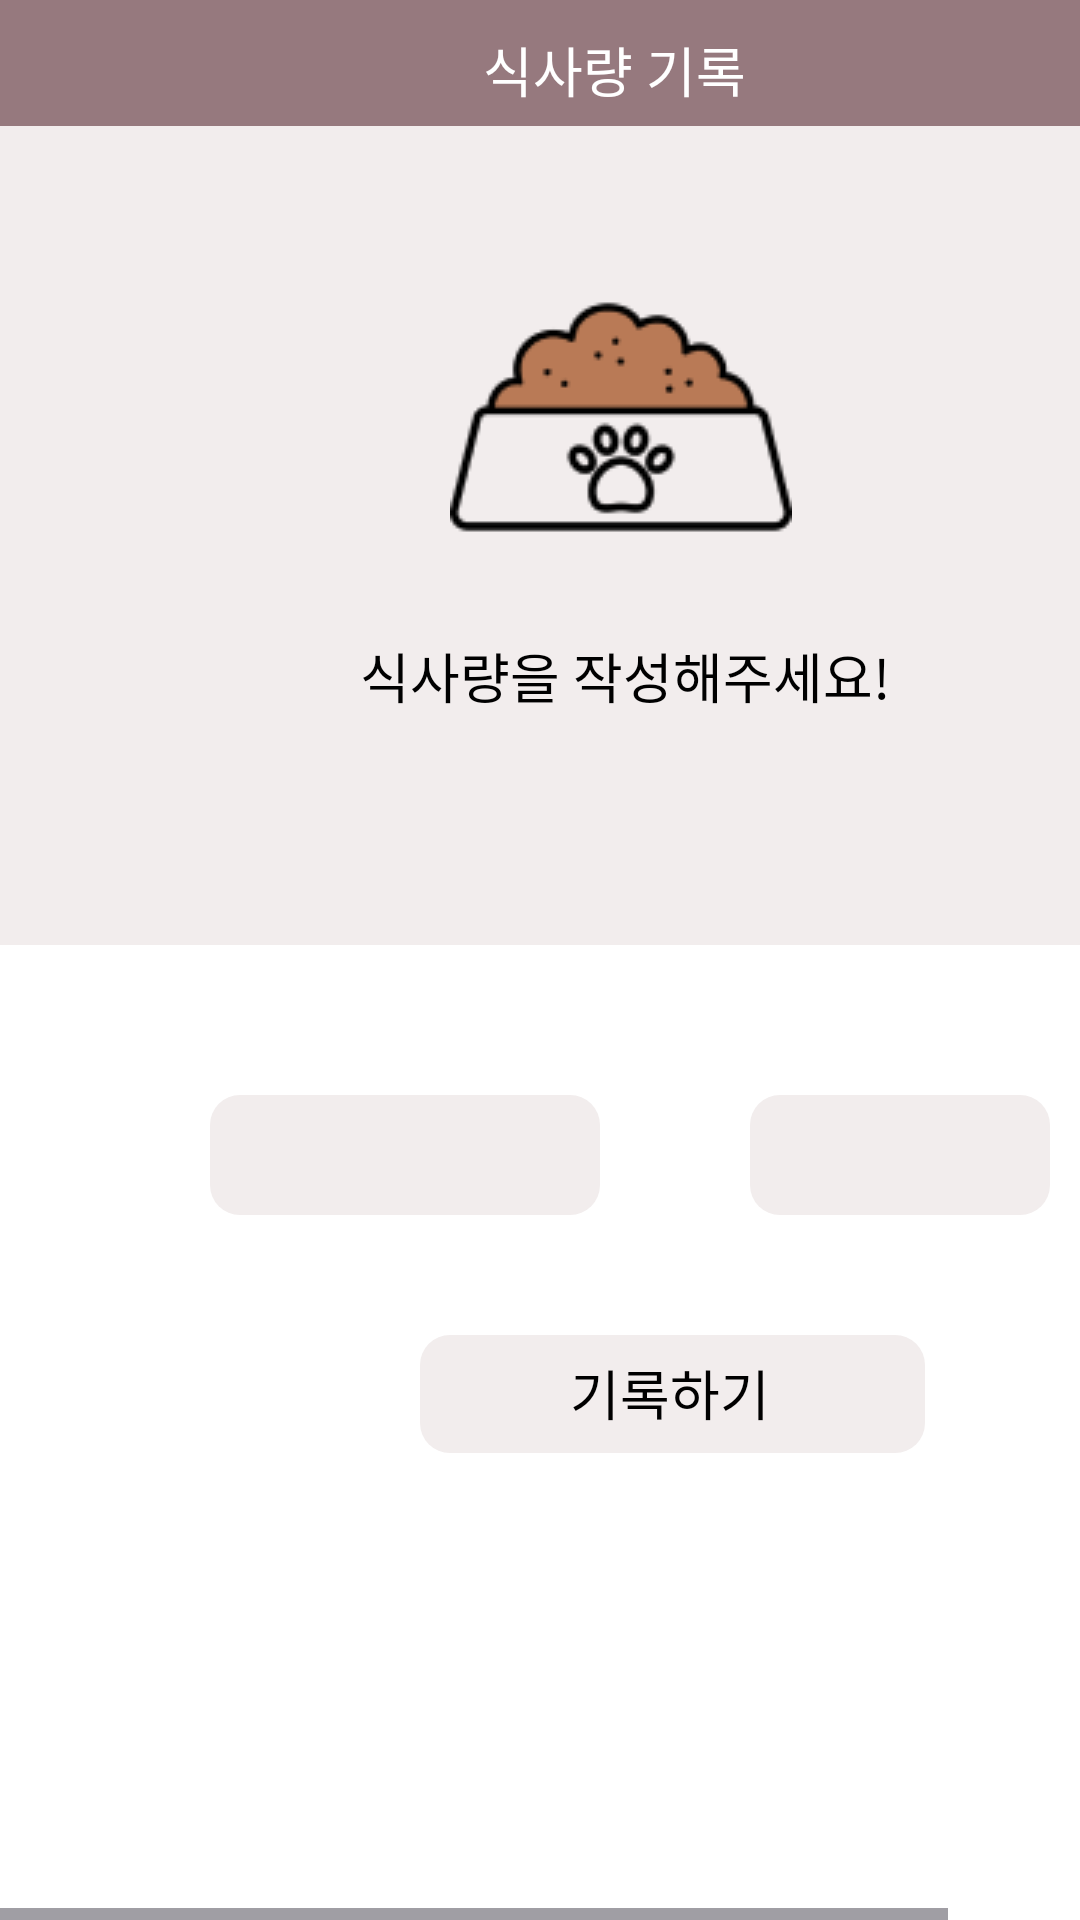

Locate icon controls on the screen. Image size 1080 x 1920, boxes as (x1, y1, x2, y2).
petbowl: (450, 302, 792, 532)
